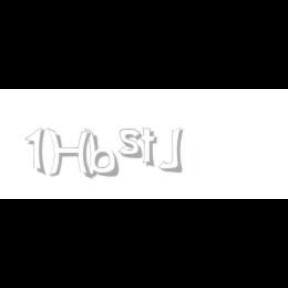1: (24, 128, 46, 176)
H: (47, 128, 93, 180)
J: (158, 128, 184, 172)
b: (84, 128, 122, 178)
s: (119, 128, 147, 160)
t: (140, 128, 162, 168)
